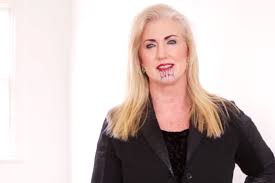s.white: (161, 48, 189, 68)
